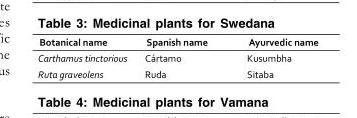table: (37, 37, 317, 79)
table column: (37, 37, 135, 79), (135, 37, 226, 79), (226, 37, 317, 79)
table column header: (37, 37, 317, 50)
table row: (37, 50, 317, 66), (37, 37, 317, 50), (37, 66, 317, 79)
